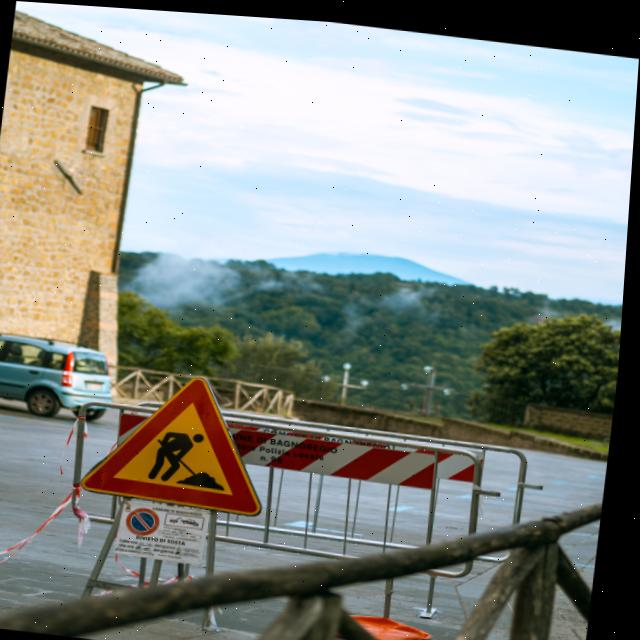building: (0, 8, 193, 363)
